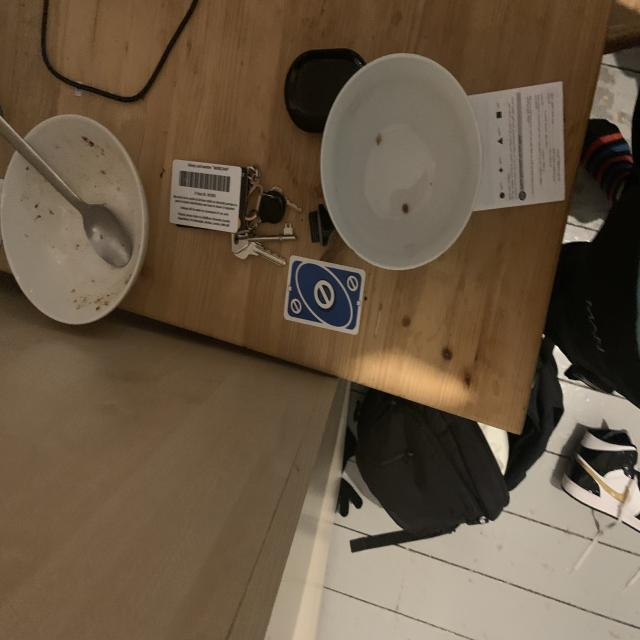lblueskip-20: (345, 272, 360, 293)
